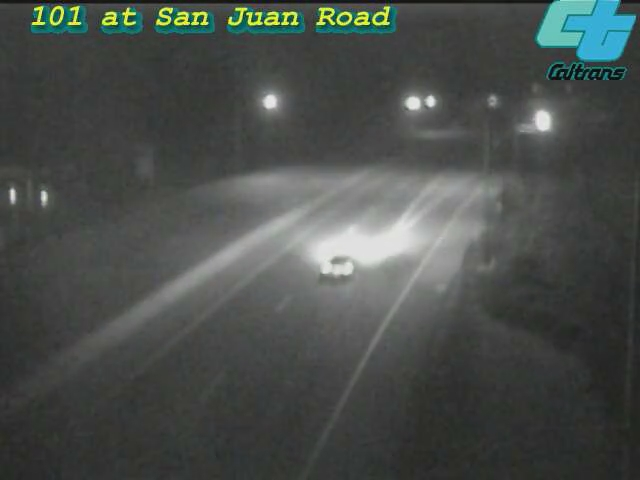vehicle: (298, 227, 378, 307), (517, 93, 567, 143)
